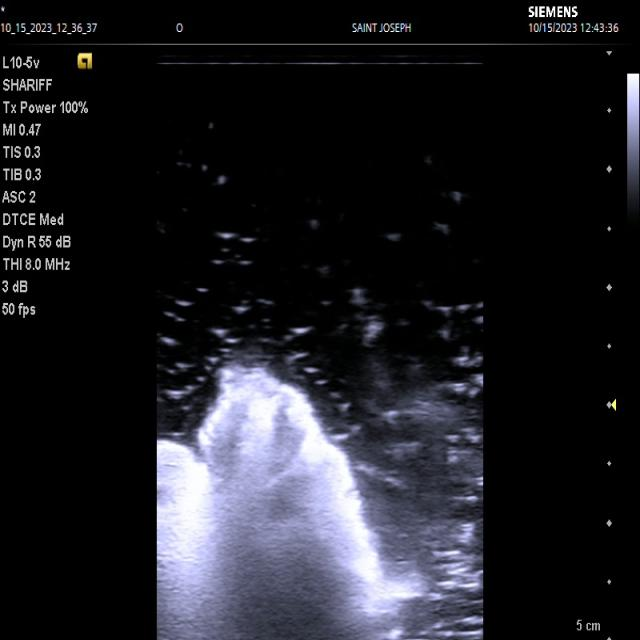tissue: (157, 366, 384, 640)
